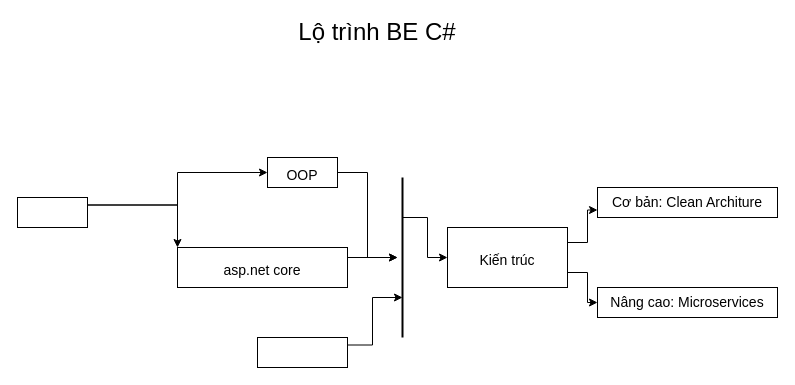
This 795x385 diagram has some shape labels left out. The centre of each missing label's shape, as x and y in pixels:
"C#" belongs at (x=52, y=212).
"SQL" belongs at (x=302, y=352).
